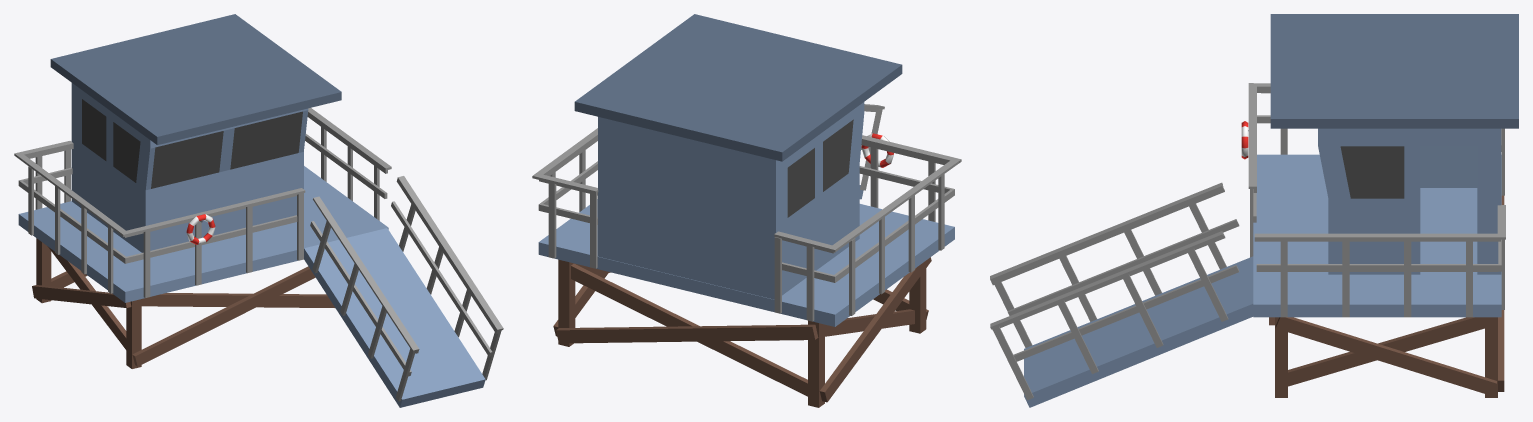
File: Lifeguard_cabin_01.fbx
3 views of the same model, side by side, from view 1: azimuth 30°, elevation 25°; view 2: azimuth 150°, elevation 25°; view 3: azimuth 270°, elevation 25° (orthographic). The views are drawn at different scales.
Parts seen in each view (by area): view 1: Lifeguard_cabin_01; view 2: Lifeguard_cabin_01; view 3: Lifeguard_cabin_01.
Part boxes in pixels (left/top/right/bottom): Lifeguard_cabin_01: left=14, top=14, right=503, bottom=407; Lifeguard_cabin_01: left=532, top=14, right=961, bottom=407; Lifeguard_cabin_01: left=990, top=14, right=1518, bottom=407.
Bounding box in the file's own units: 514 × 416 × 745.
